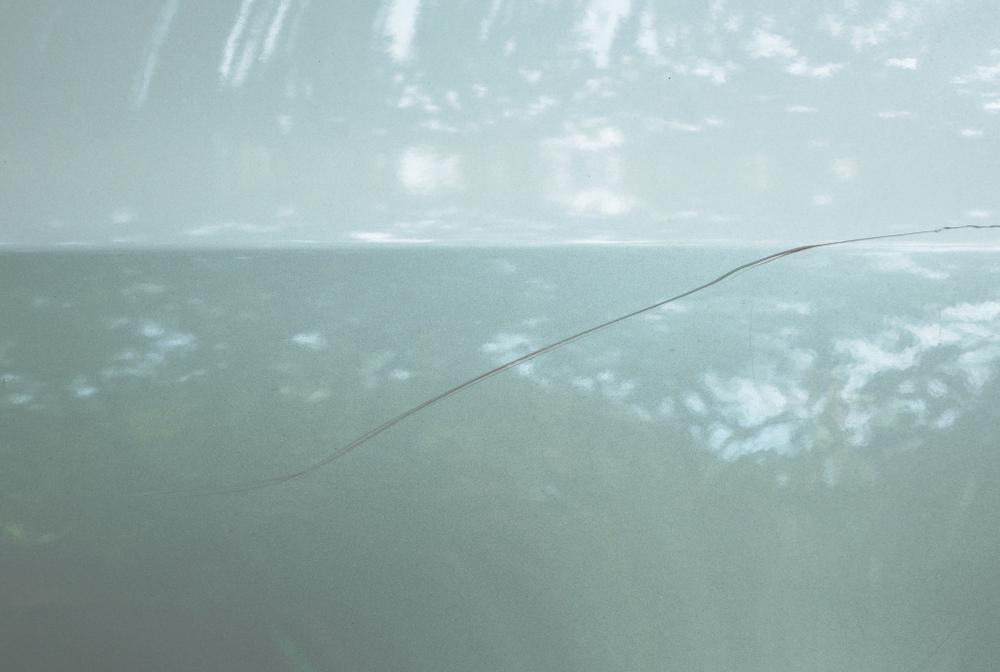scratch: (234, 218, 1000, 495)
